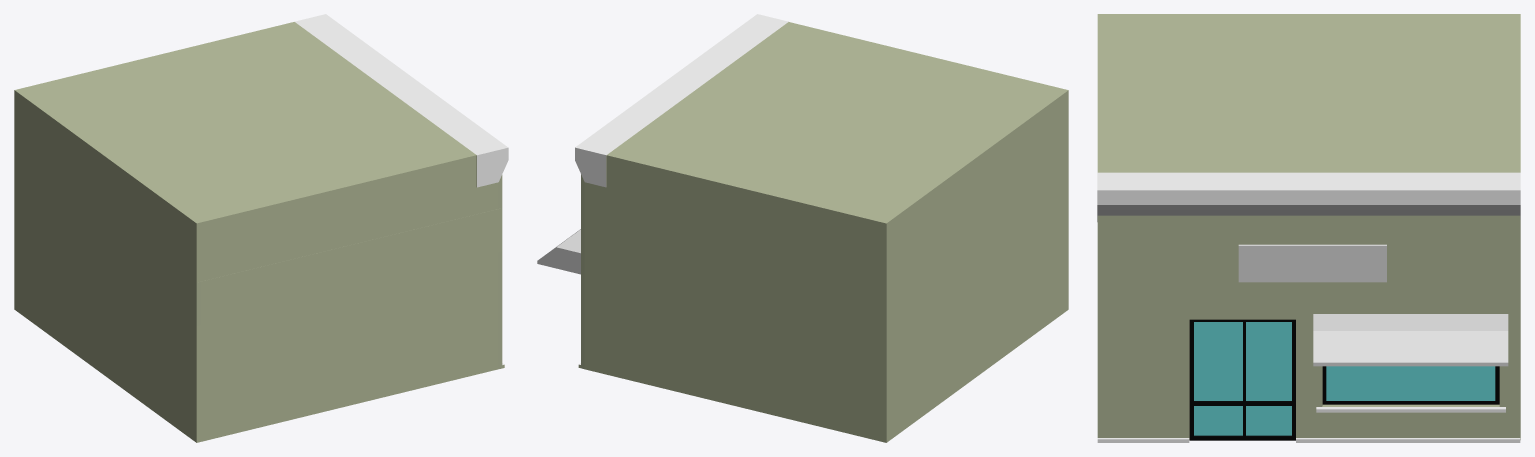
Rendered from Small Shop3.fbx.
The picture shows the model from 3 angles, left to right: view 1: azimuth 30°, elevation 25°; view 2: azimuth 150°, elevation 25°; view 3: azimuth 270°, elevation 25°; orthographic projection. The views are drawn at different scales.
Visible parts, largest first — view 1: Cube; view 2: Cube, Cube.002; view 3: Cube, Cube.002, Cube.001.
Part boxes in pixels (<box>): Cube: <box>14,14,508,442</box>; Cube: <box>575,14,1068,442</box>; Cube.002: <box>537,229,580,274</box>; Cube: <box>1097,14,1520,442</box>; Cube.002: <box>1313,314,1508,366</box>; Cube.001: <box>1238,244,1386,282</box>.
Bounding box in the file's own units: 2369 × 1402 × 2114.
